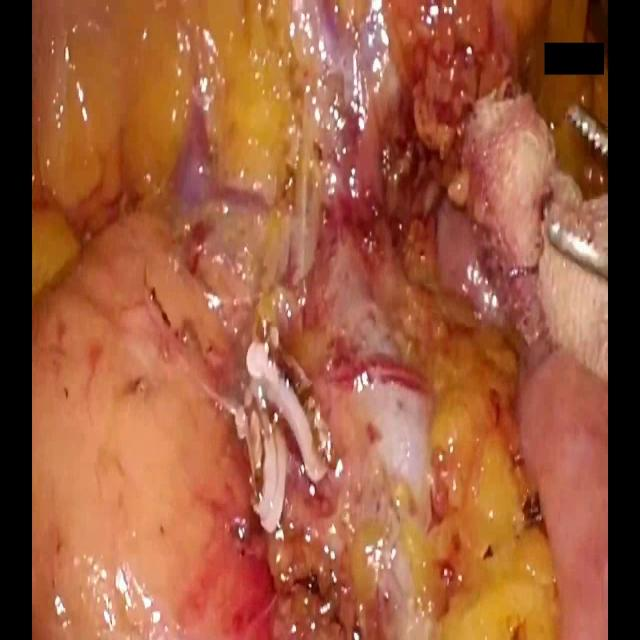surgical-area: (32, 0, 608, 639)
surgical-tool: (548, 215, 608, 279), (565, 105, 608, 157)
